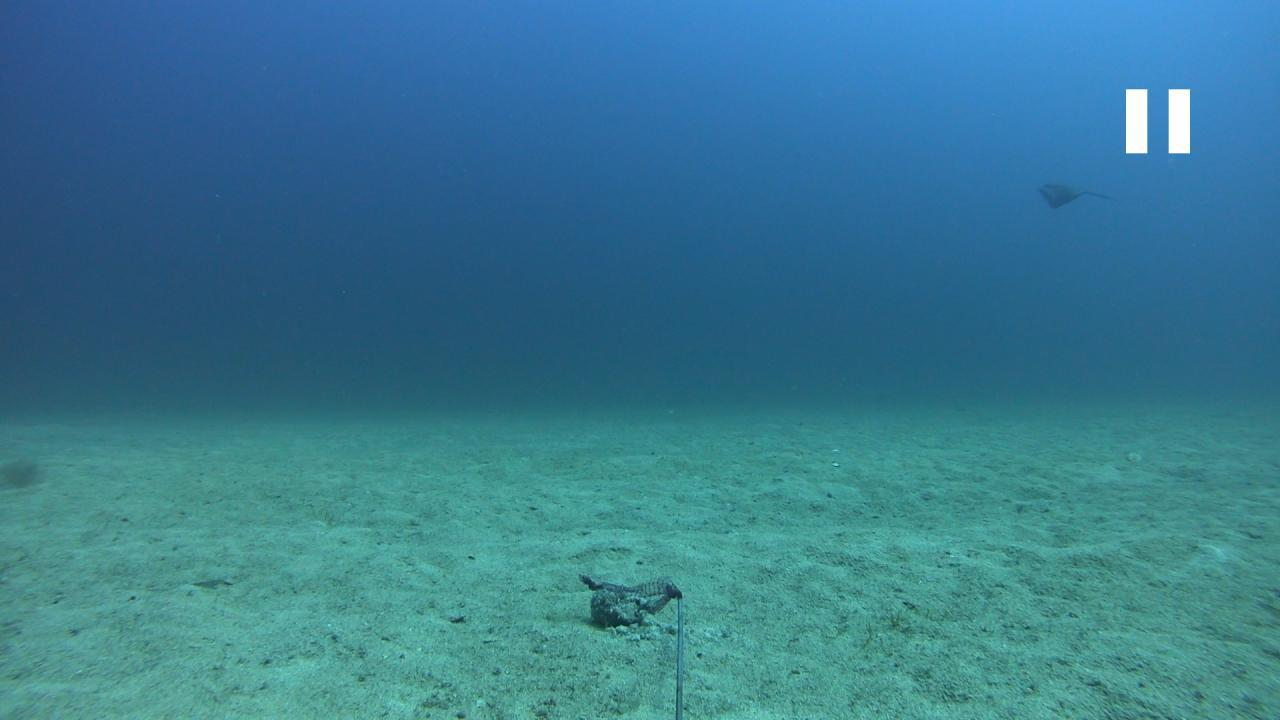dasyatis: (1038, 180, 1126, 210)
